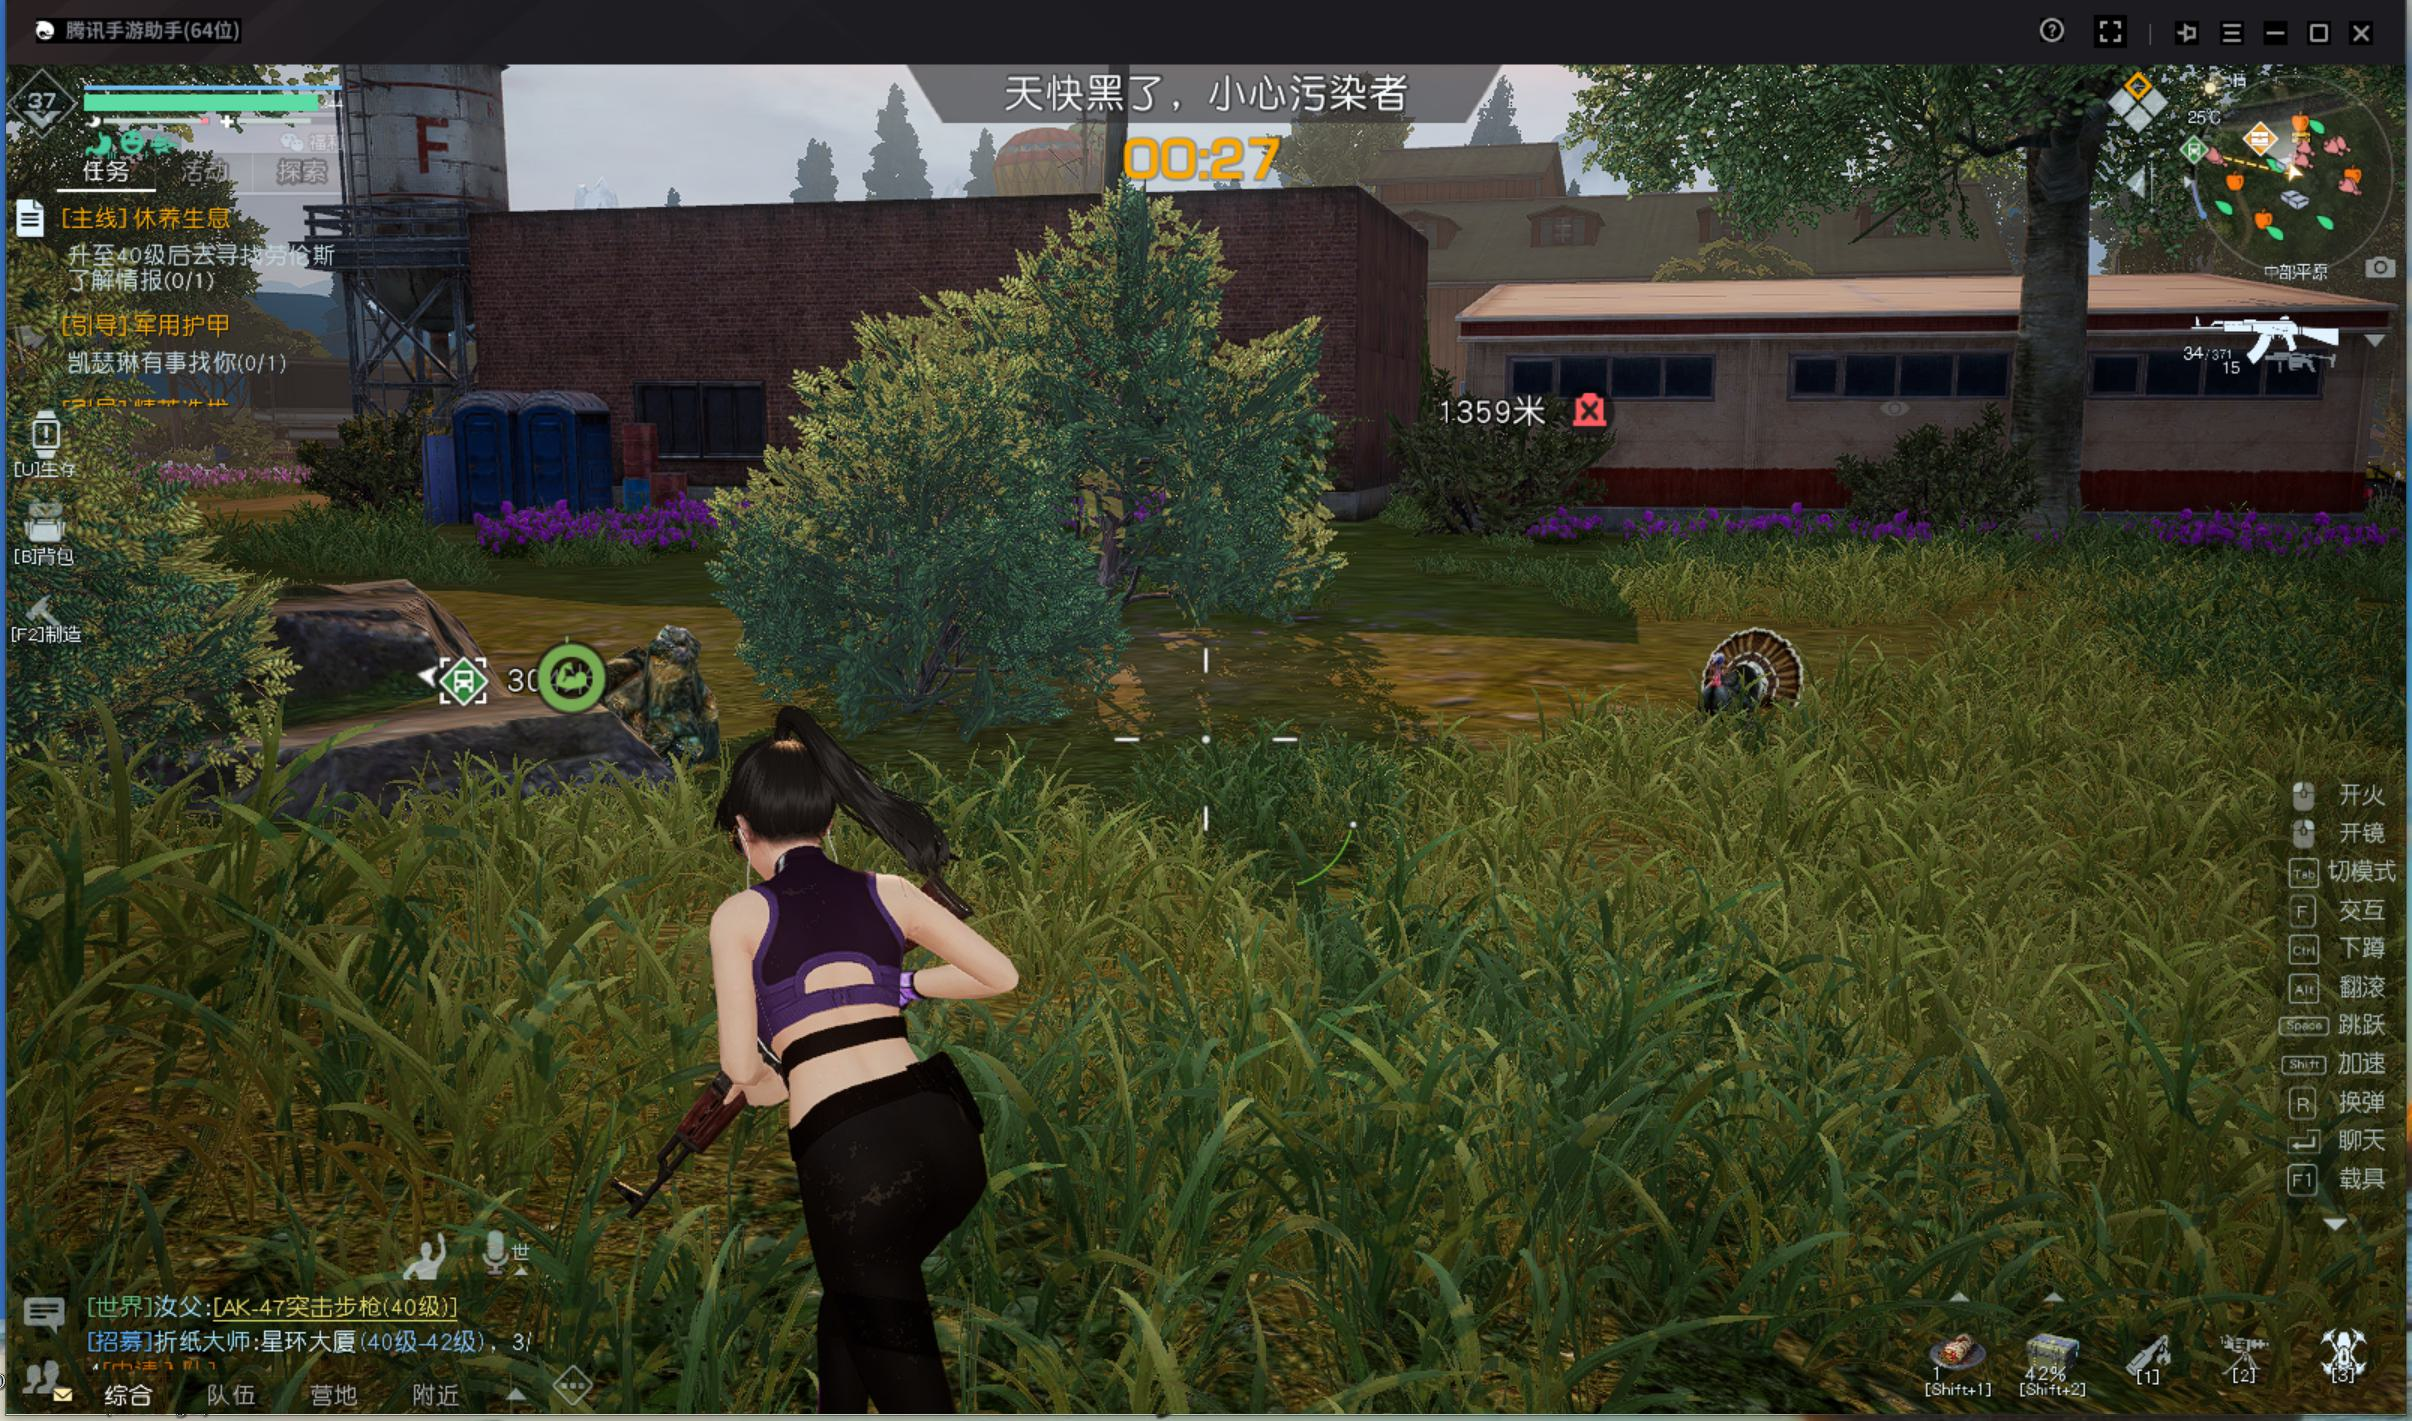stone: (599, 612, 727, 785)
tree: (1991, 167, 2109, 594)
